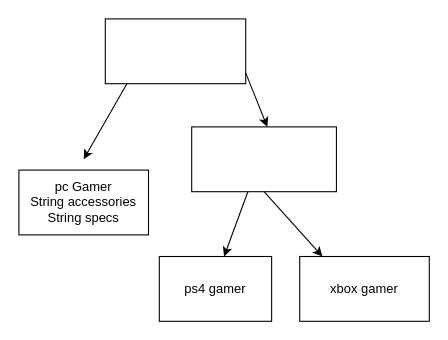
Image size: 448x340. Some labels were removed from this diagram. The centre of each missing label's shape, as x and y in pixels:
"console Gamer String console name String exclusive games String color" belongs at point 263,159.
"Gamer String console String favorite game" belongs at point 175,51.
